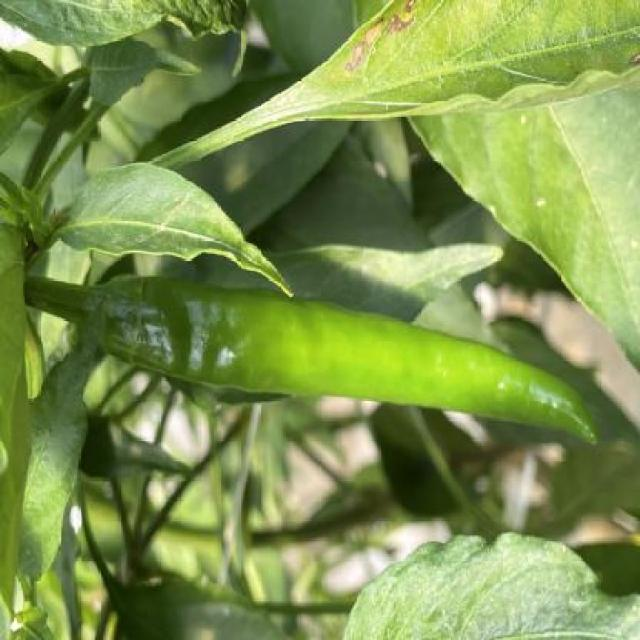green chilli: (100, 274, 600, 446)
